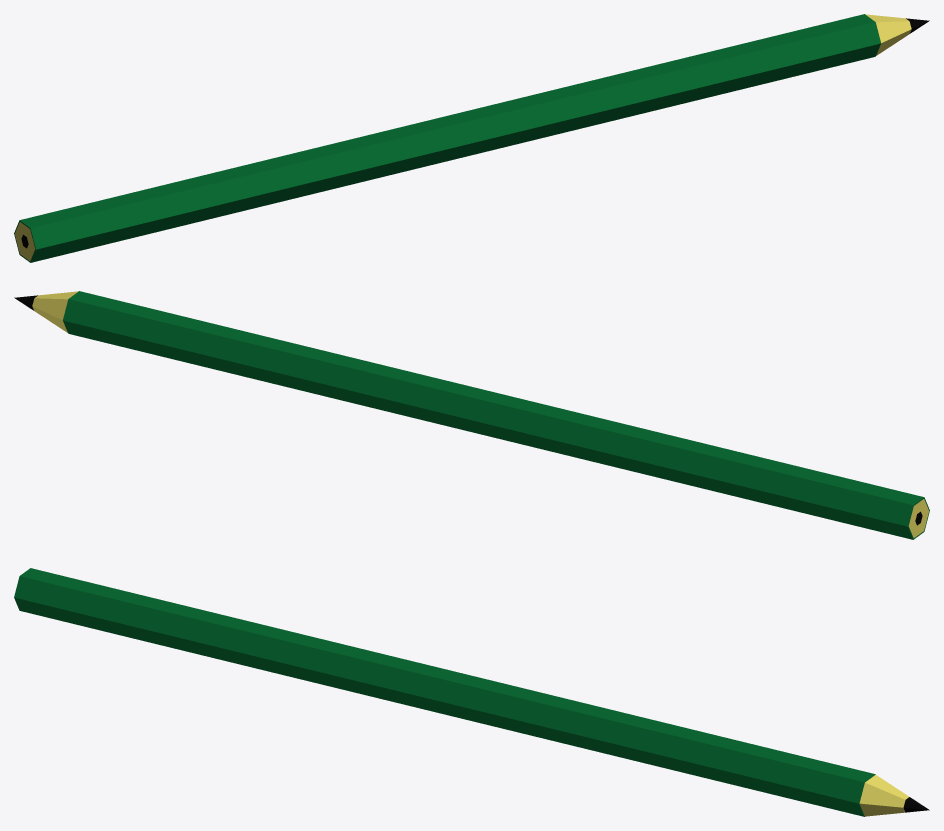
File: pen+.fbx
The picture shows the model from 3 angles, top to bottom: view 1: azimuth 30°, elevation 25°; view 2: azimuth 150°, elevation 25°; view 3: azimuth 330°, elevation 25°; orthographic projection.
Visible parts, largest first — view 1: Cone; view 2: Cone; view 3: Cone.
Boxes of the visible parts, x1,y1,x2,y2 form: Cone: (14,14,929,262); Cone: (14,291,929,539); Cone: (14,568,929,816).
Size of the model in its own units: 343 by 12.56 by 14.5.
